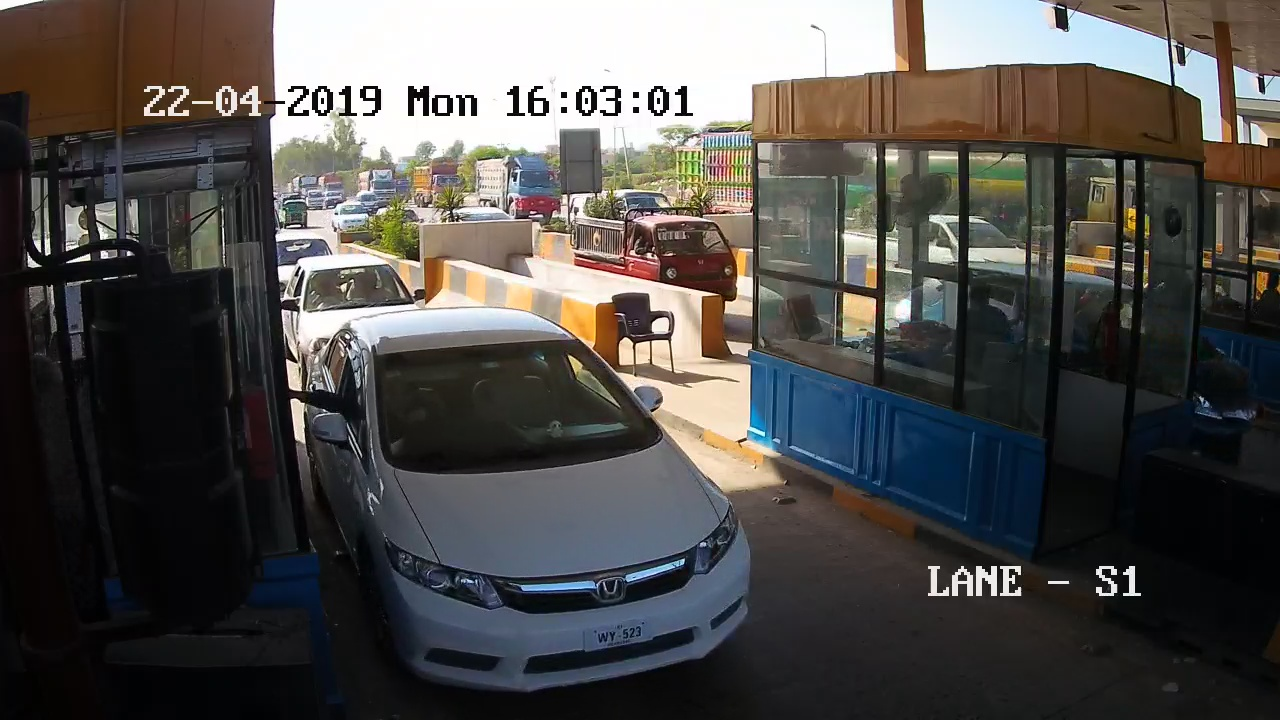car: (327, 335, 814, 715), (295, 270, 401, 307)
